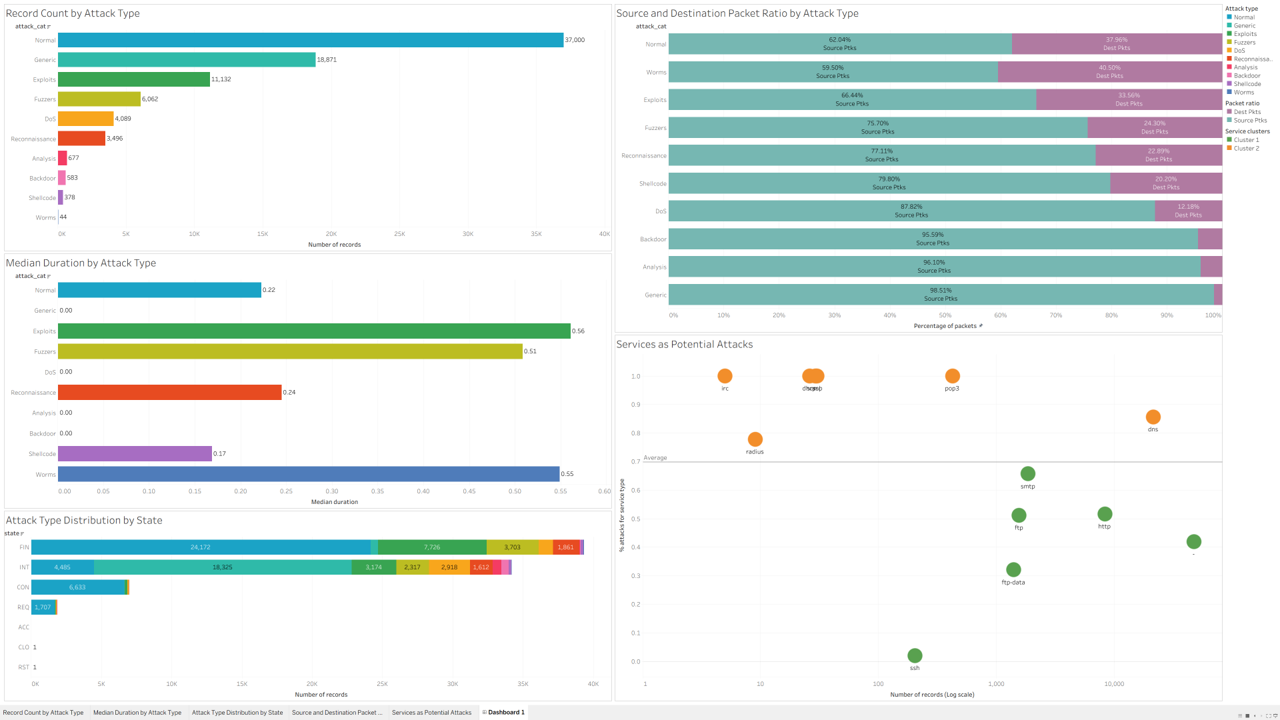

This screenshot's page, from the dashboard's own definition file:
{"tool":"tableau","page":{"name":"Dashboard 1","canvas":[1000,1000],"units":"permille","ordinal":0},"visuals":[{"type":"worksheet","title":"Record Count by Attack Type","mark":"Automatic","rows":["attack_cat"],"cols":["id"],"box":[2.3,4.2,475,353.7]},{"type":"worksheet","title":"Source and Destination Packet Ratio by Attack Type","mark":"Automatic","rows":["attack_cat"],"box":[477.2,4.2,475.1,526.5]},{"type":"legend","title":"Record Count by Attack Type","param":"[federated.1itmja01vamjv0164jt1c12vclco].[none:attack_cat:nk]","box":[952.3,4.2,45.4,150.6]},{"type":"legend","title":"Source and Destination Packet Ratio by Attack Type","param":"[federated.1itmja01vamjv0164jt1c12vclco].[:Measure Names]","box":[952.3,154.8,45.4,44.5]},{"type":"legend","title":"Services as Potential Attacks","param":"[federated.1itmja01vamjv0164jt1c12vclco].[none:AdhocCluster:1:ok]","box":[952.3,199.4,45.4,44.5]},{"type":"worksheet","title":"Median Duration by Attack Type","mark":"Automatic","rows":["attack_cat"],"cols":["dur"],"box":[2.3,357.9,475,331.4]},{"type":"worksheet","title":"Services as Potential Attacks","mark":"Automatic","rows":["label"],"cols":["id"],"box":[477.2,530.8,475.1,465]},{"type":"worksheet","title":"Attack Type Distribution by State","mark":"Automatic","rows":["state"],"cols":["id"],"box":[2.3,689.3,475,306.5]}]}

Visuals, with their boxes on the dashboard's canvas, which has no fixed pixel size, in thousandths of its width and height (x1, y1, x2, y2). These are canvas units, not pixel positions in the 1280x720 screenshot, which may show the page scaled, cropped or inside an application window:
"Record Count by Attack Type" worksheet: Rect(2, 4, 477, 358)
"Source and Destination Packet Ratio by Attack Type" worksheet: Rect(477, 4, 952, 531)
"Record Count by Attack Type" legend: Rect(952, 4, 998, 155)
"Source and Destination Packet Ratio by Attack Type" legend: Rect(952, 155, 998, 199)
"Services as Potential Attacks" legend: Rect(952, 199, 998, 244)
"Median Duration by Attack Type" worksheet: Rect(2, 358, 477, 689)
"Services as Potential Attacks" worksheet: Rect(477, 531, 952, 996)
"Attack Type Distribution by State" worksheet: Rect(2, 689, 477, 996)
